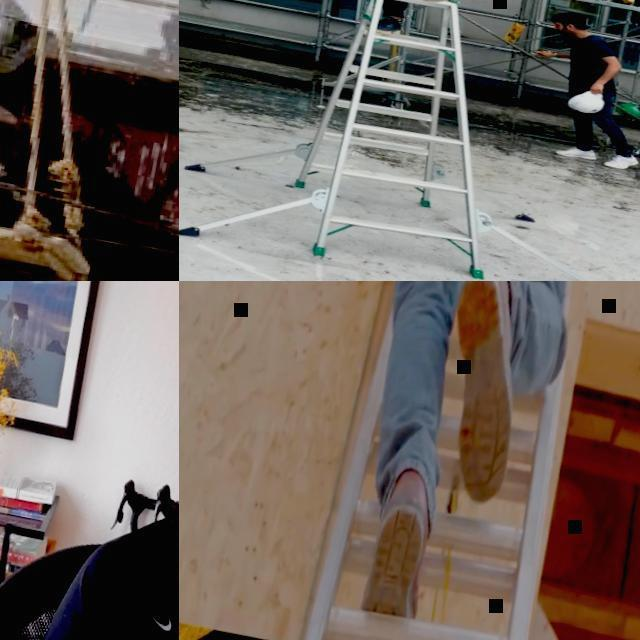helmet: (562, 86, 606, 120)
no_helmet: (548, 10, 588, 30)
no_mask: (555, 26, 575, 38)
no_vest: (43, 518, 179, 640), (564, 34, 620, 98)
person: (281, 281, 615, 640), (0, 281, 179, 640), (0, 6, 179, 281), (513, 7, 640, 173), (326, 0, 508, 51)
